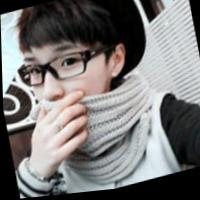WRONG: (18, 34, 122, 144)
